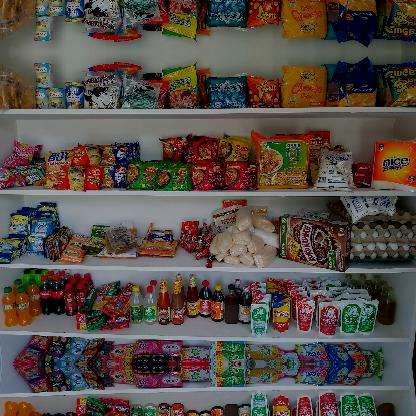Koko-Krunch: (278, 210, 354, 274)
